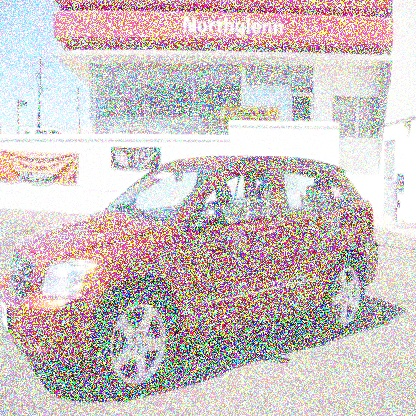Vehicle: (2, 150, 382, 402)
